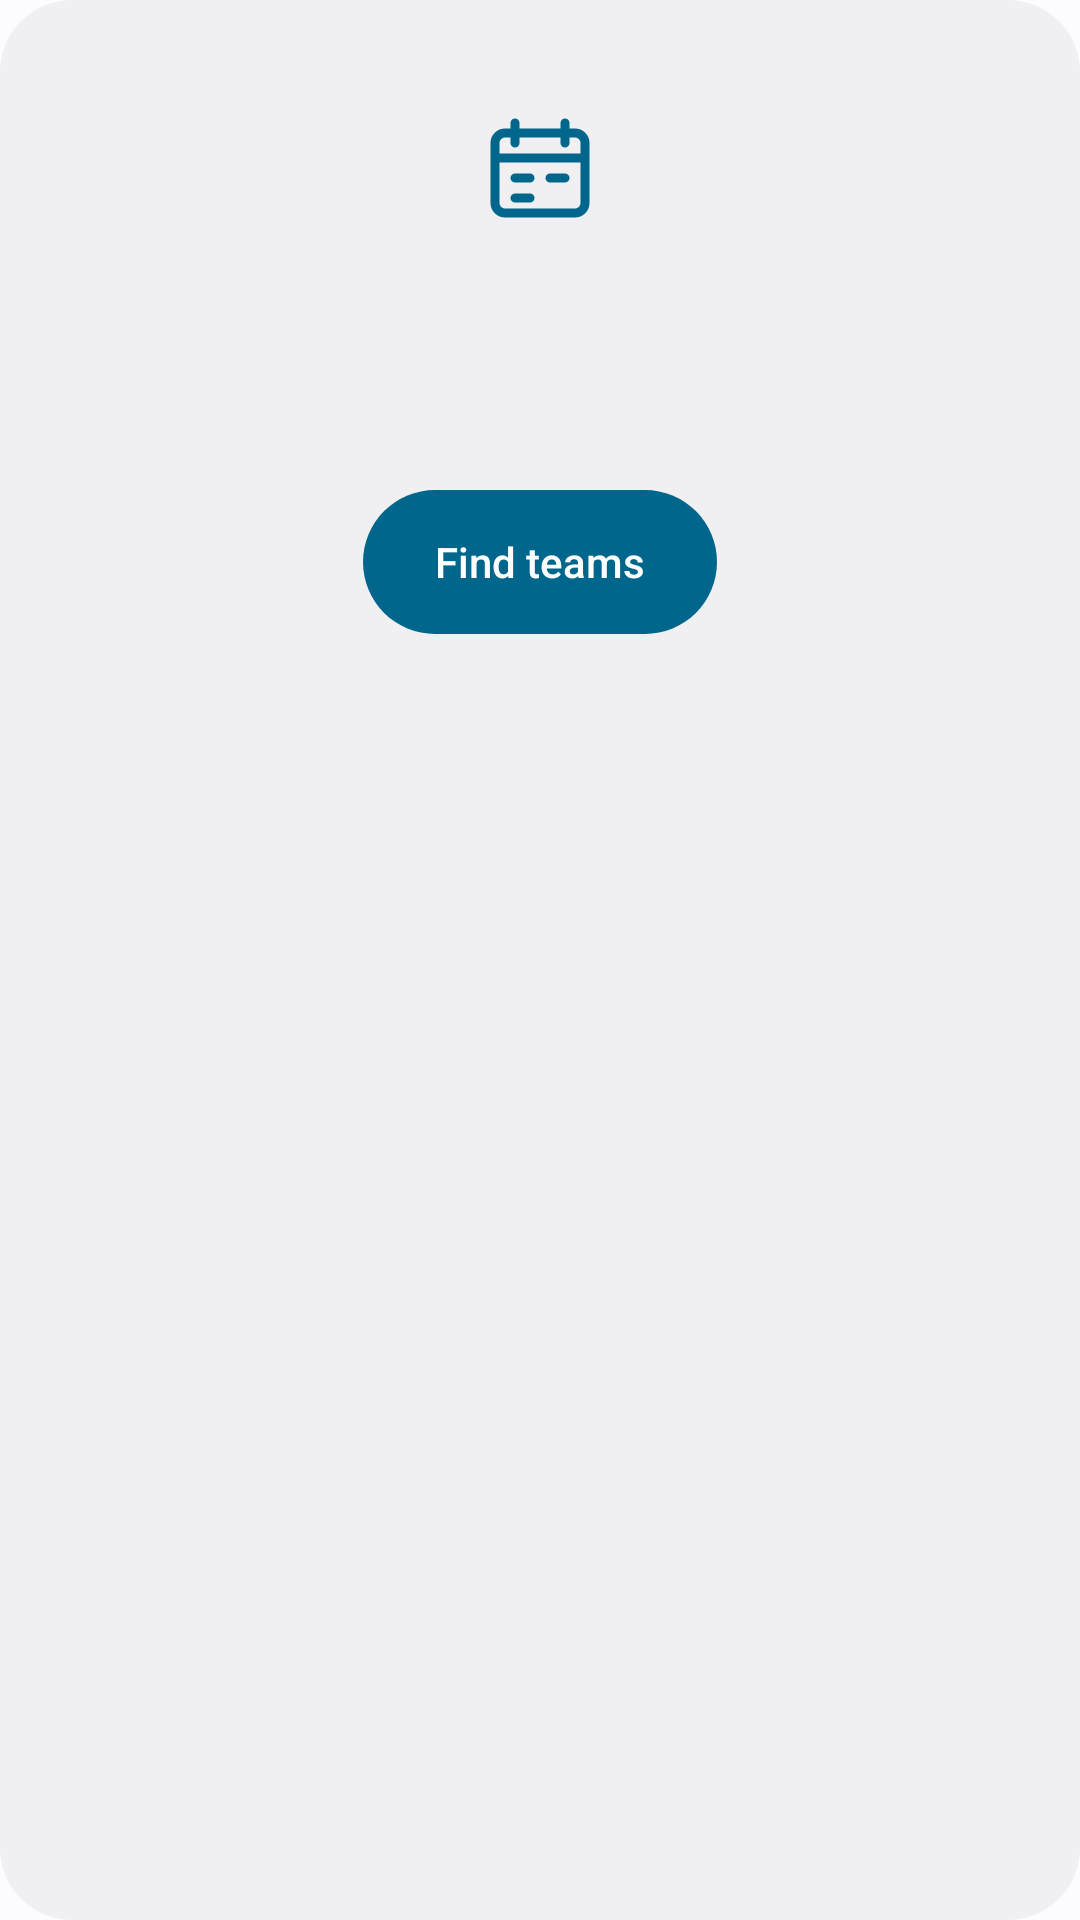

Where to tap for icons on this 1080*1920 app screen, as (x=x, y=y):
calendar: (x=540, y=168)
